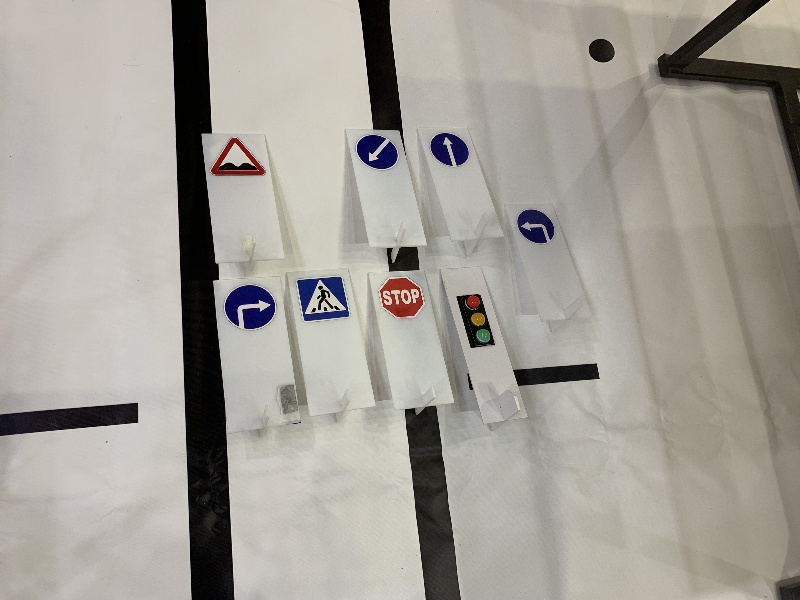Left: (518, 209, 555, 247)
Nerov: (214, 135, 265, 181)
Right: (226, 284, 276, 331)
Stop: (378, 277, 425, 316)
forw: (429, 131, 469, 169)
pesh: (296, 275, 350, 322)
prep: (356, 133, 400, 170)
